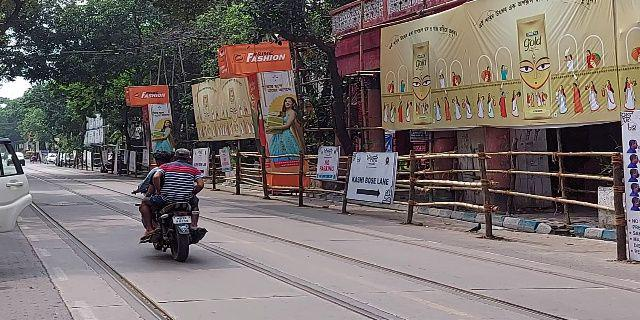Motorbike: (129, 144, 206, 266)
